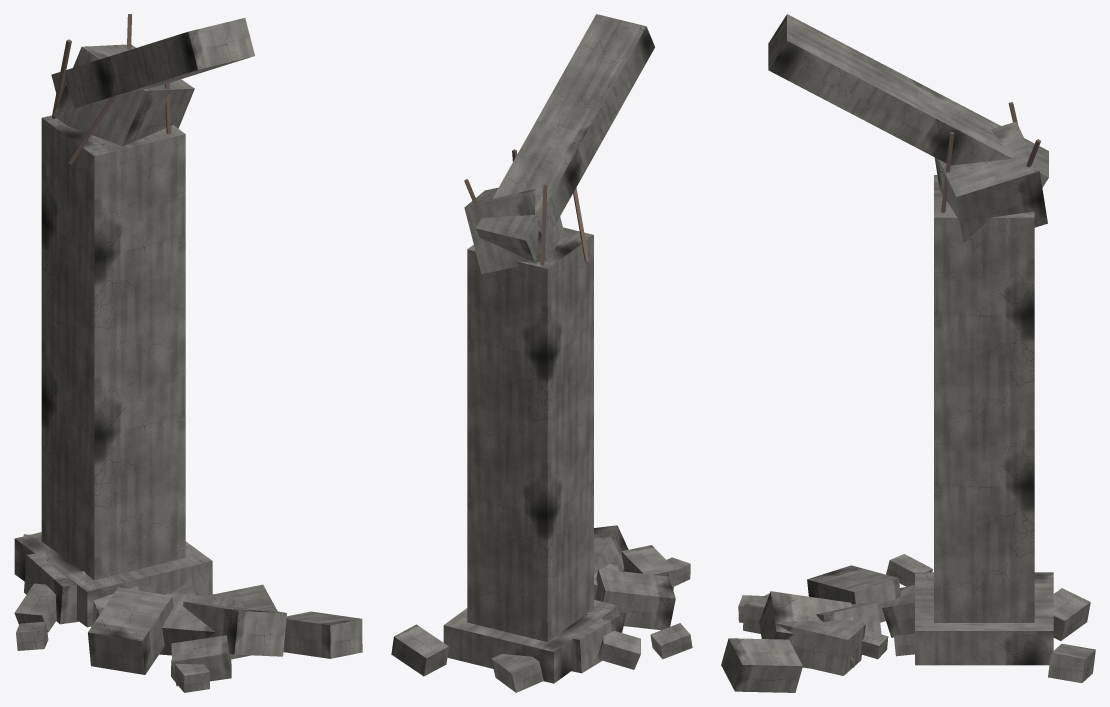
Rendered from pillar.glb.
The picture shows the model from 3 angles, left to right: view 1: azimuth 30°, elevation 25°; view 2: azimuth 150°, elevation 25°; view 3: azimuth 270°, elevation 25°; orthographic projection. The views are drawn at different scales.
Visible parts, largest first — view 1: pillar; view 2: pillar; view 3: pillar.
Boxes of the visible parts, bbox=[...] form: pillar: bbox=[14, 14, 362, 692]; pillar: bbox=[391, 14, 692, 692]; pillar: bbox=[721, 14, 1095, 692].
Size of the model in its own units: 2.3 by 5.49 by 2.97.
2 materials, 1 textured.
